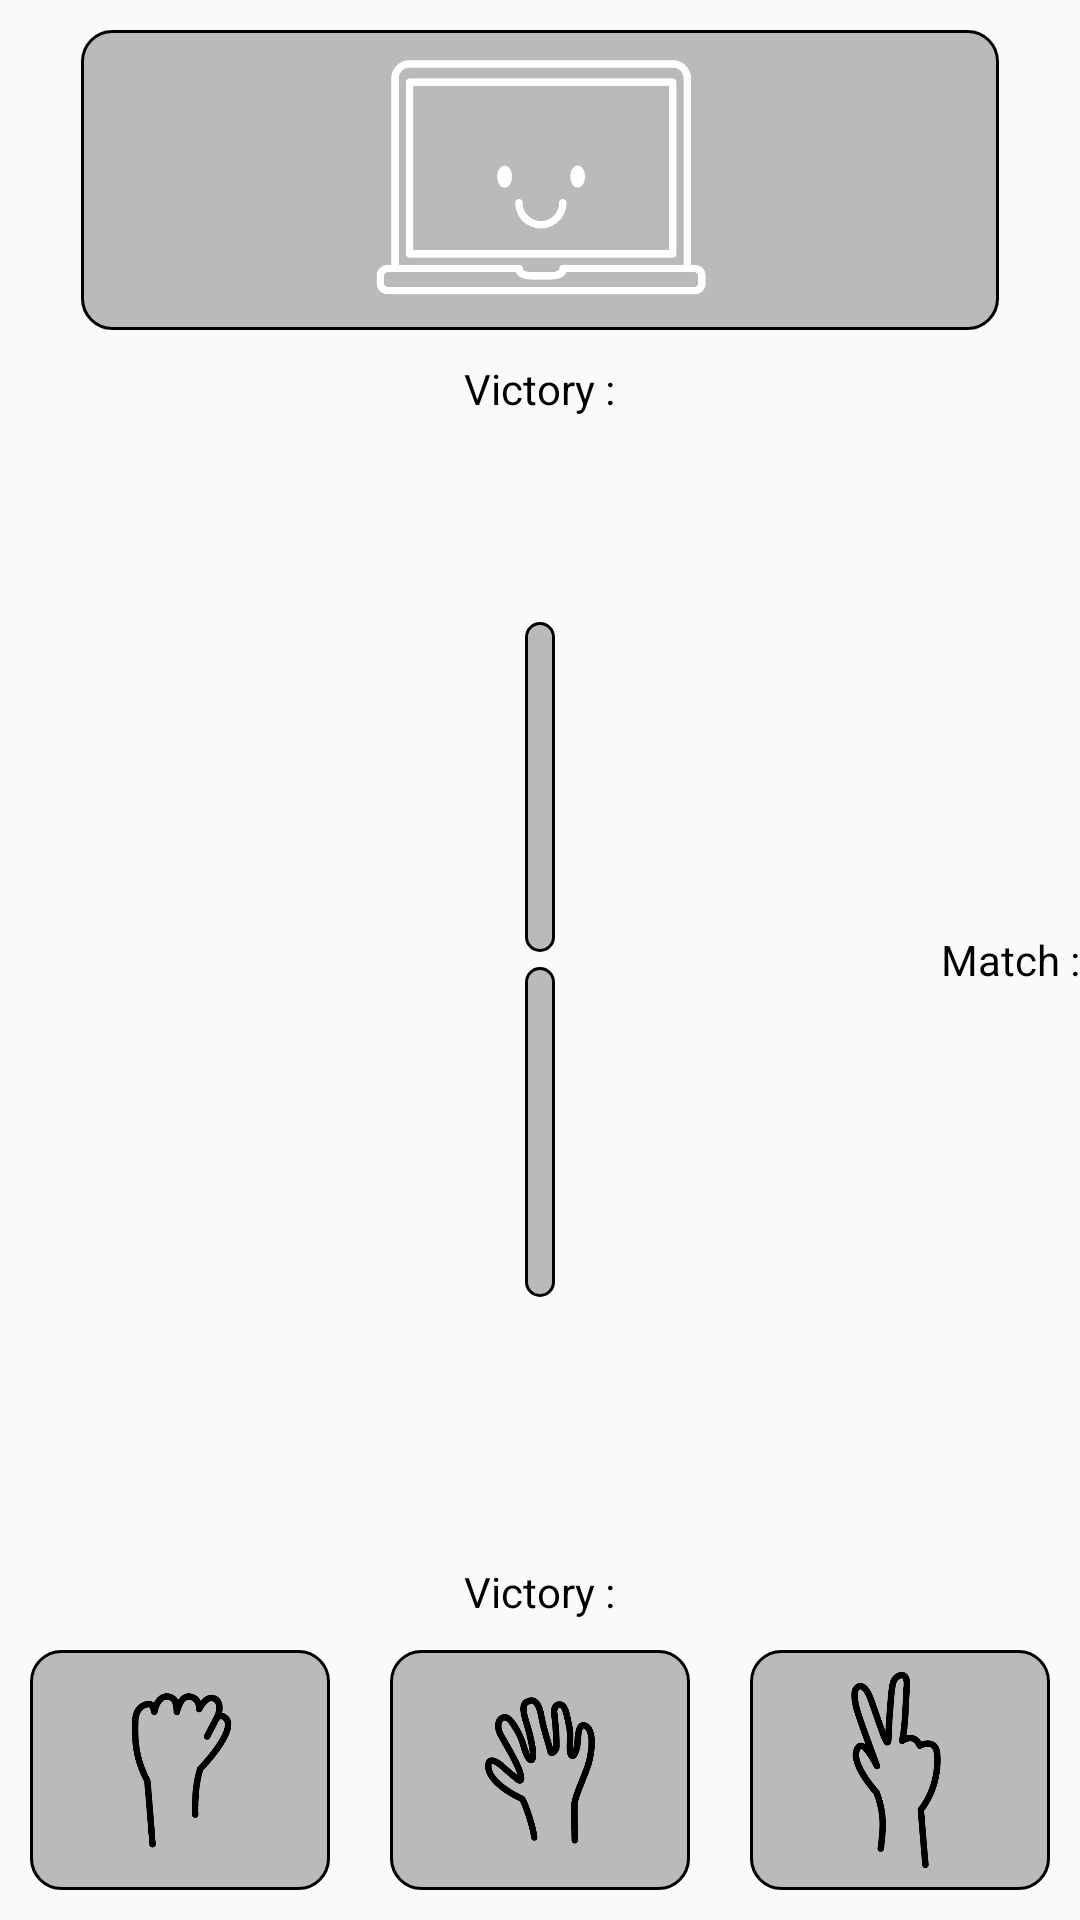

Named icons in this screenshot (1080×1920) and their bounding boxes, (x1=x1, y1=y1, x2=x2, y2=y2):
paper: (x1=485, y1=1697, x2=595, y2=1844)
rock: (x1=132, y1=1693, x2=232, y2=1848)
scissor: (x1=851, y1=1672, x2=941, y2=1868)
